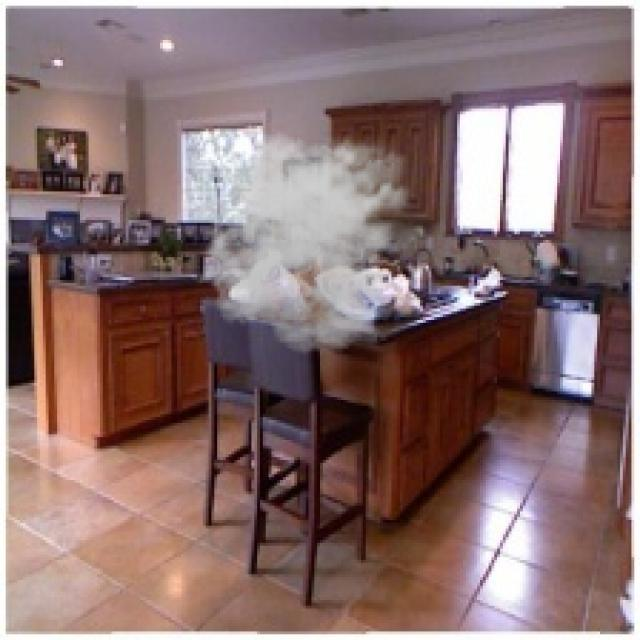smoke: (197, 126, 423, 354)
